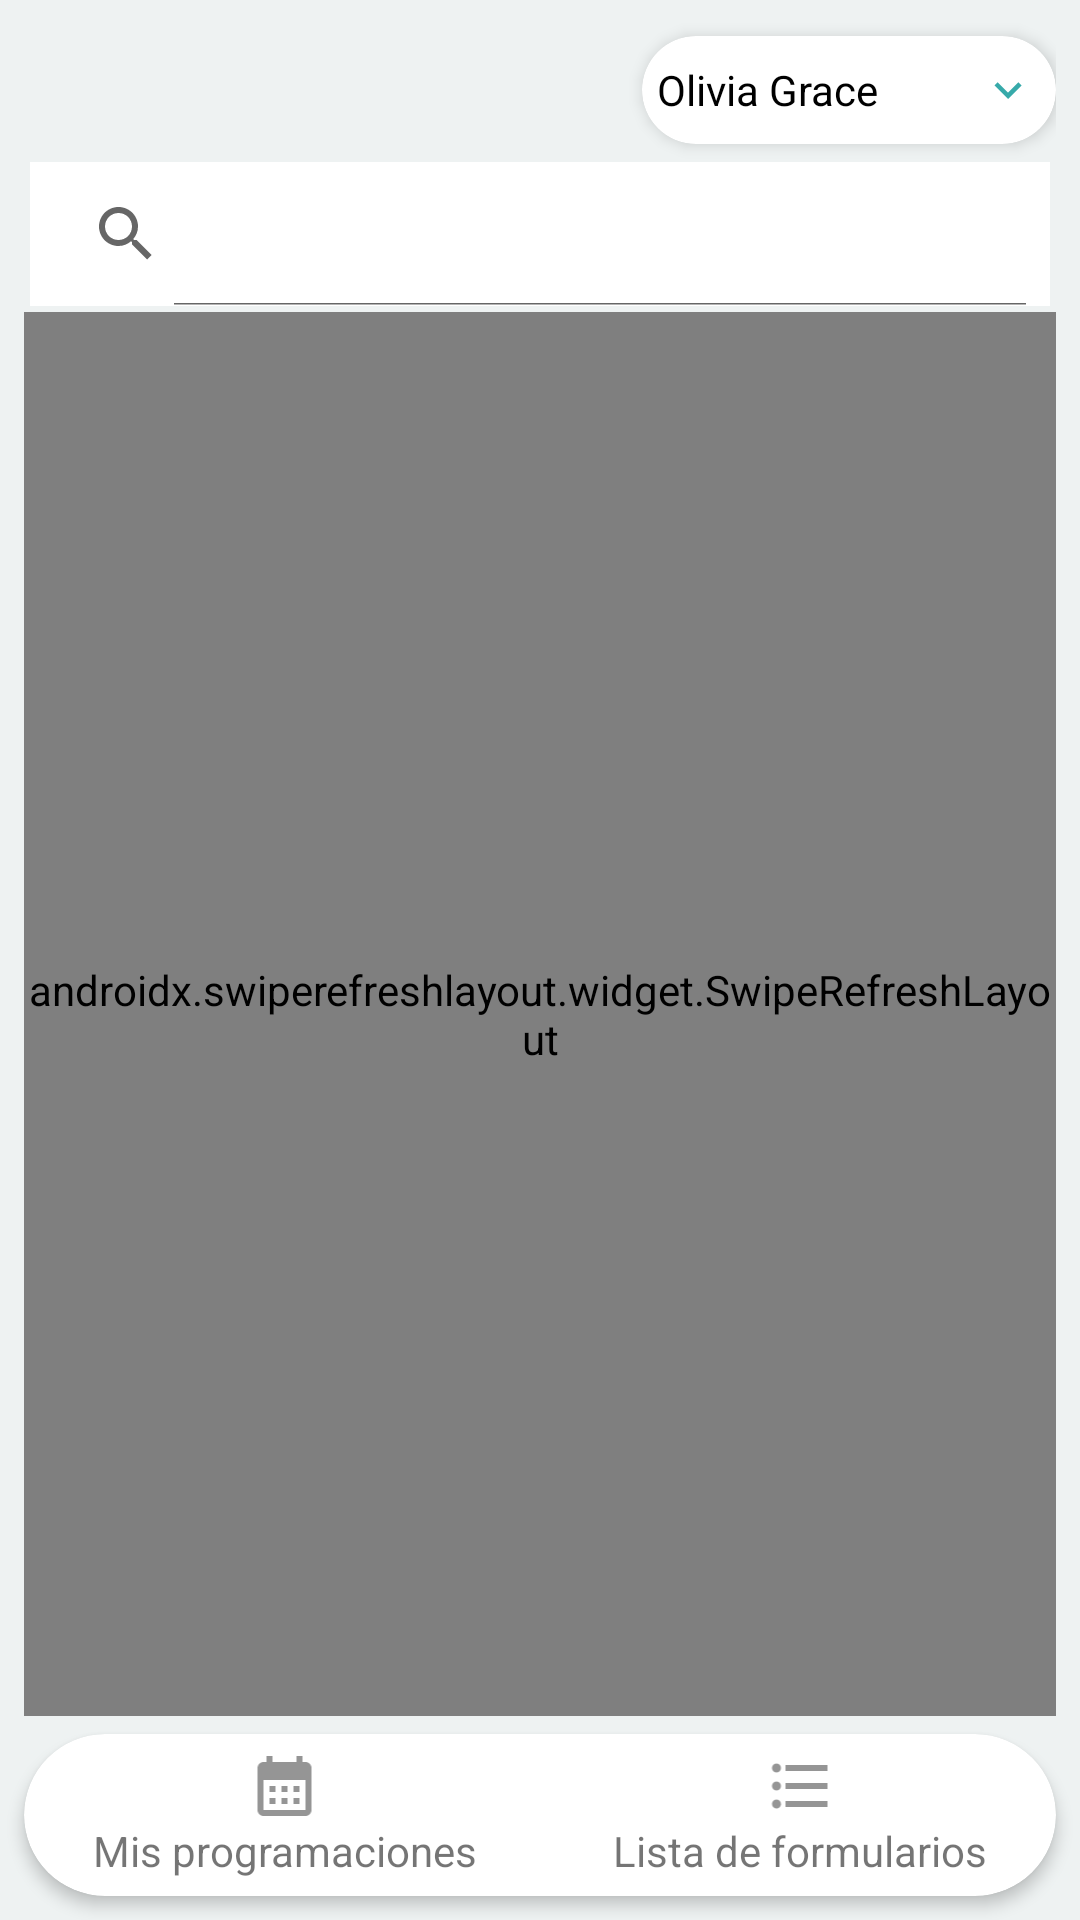

Icon click points for this 1080 x 1920 phone screenshot, format (x,y):
keyboard arrow down: (1008,90)
